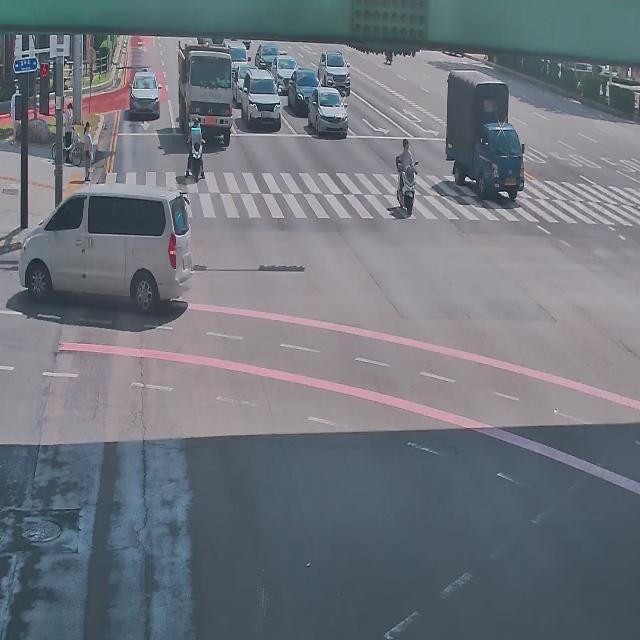Car: (18, 184, 193, 313), (241, 69, 281, 130), (308, 86, 348, 138), (288, 68, 322, 116), (129, 68, 160, 120), (317, 51, 351, 98), (233, 61, 260, 101), (270, 54, 298, 92), (254, 43, 282, 76), (226, 41, 248, 74)
Motorcycle: (395, 138, 419, 219), (185, 115, 205, 181)
Truck: (446, 68, 528, 203), (172, 38, 236, 152)
